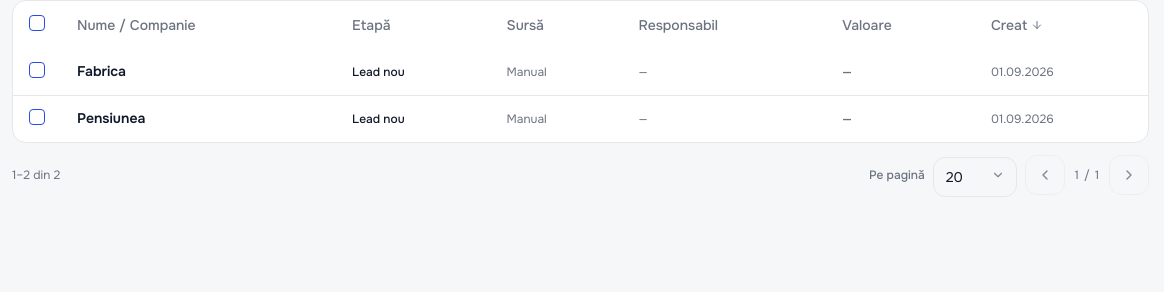
Test case: Selecția multiplă în listă › [blocant] bifa din antet selectează exact leadurile de pe pagină
Expected: the text "Fabrica" is shown, [77, 62, 126, 80]
What coordinates should you click on to do the following:
click the checkbox named "Selectează toate leadurile de pe această pagină"
I would click on:
 (37, 22)
Its box is [29, 14, 45, 30].
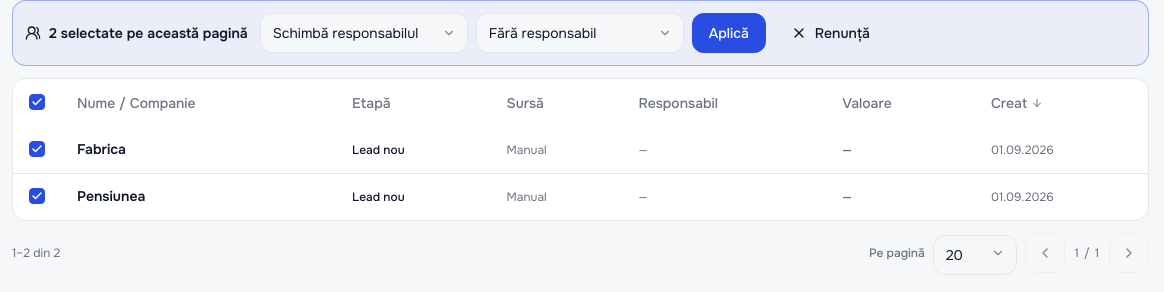
Expected: the text "2 selectate pe această pagină" is shown, [25, 24, 248, 42]
